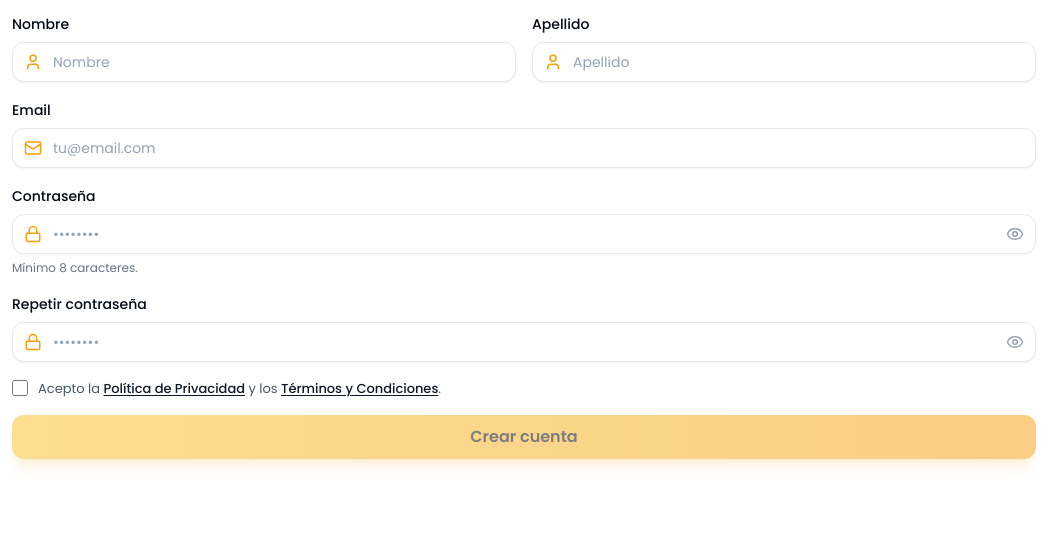
Test case: RegisterForm › el submit sigue bloqueando el envío y mostrando el error si no coinciden
In the field labelled "Nombre": (264, 62) [12,42,516,82], type "Ana"
In the field labelled "Apellido": (784, 62) [532,42,1036,82], type "Gómez"
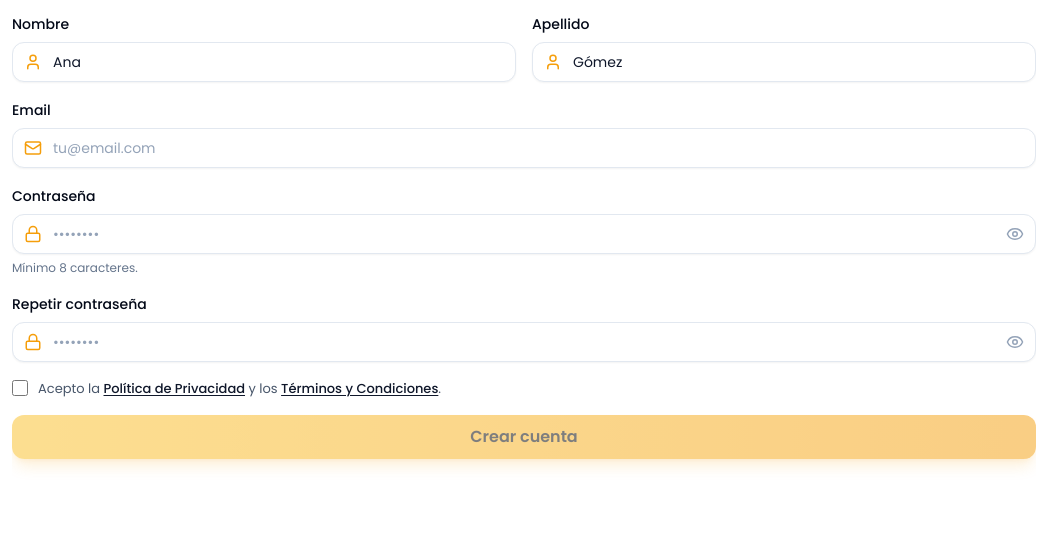
In the field labelled "Email": (524, 148) [12,128,1036,168], type "ana@test.com"
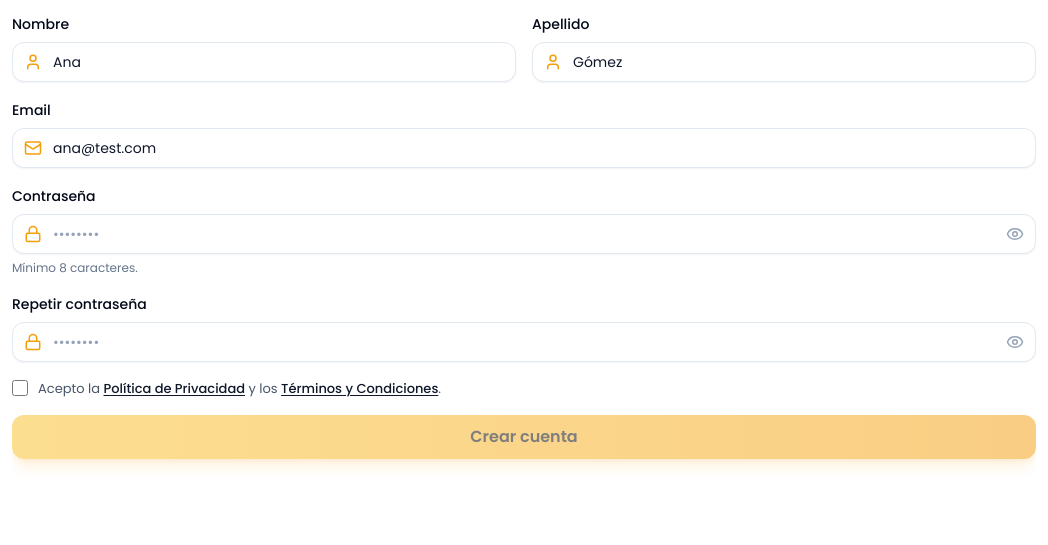
In the password field labelled "Contraseña": (524, 234) [12,214,1036,254], type "password123"
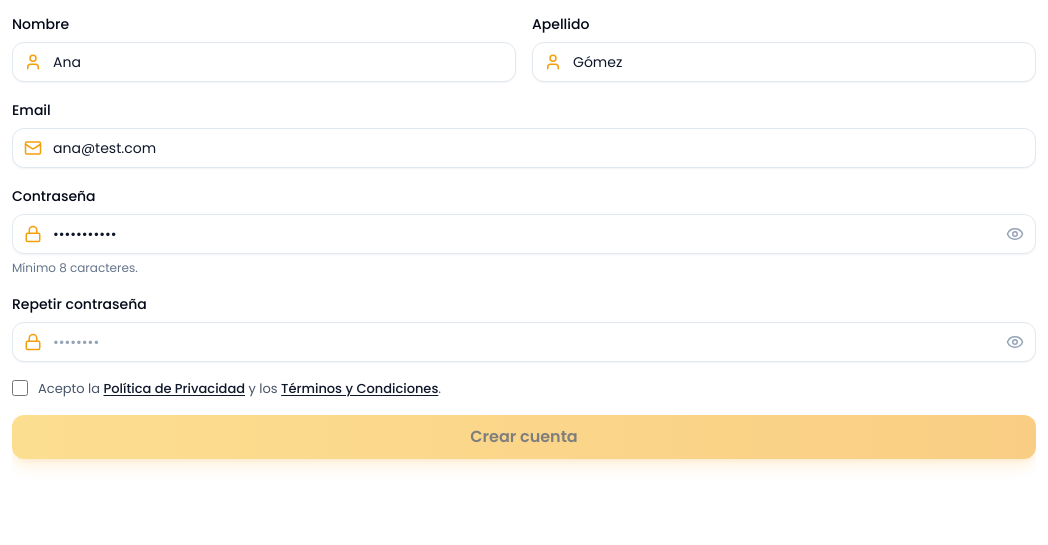
In the password field labelled "Repetir contraseña": (524, 342) [12,322,1036,362], type "otra-cosa"
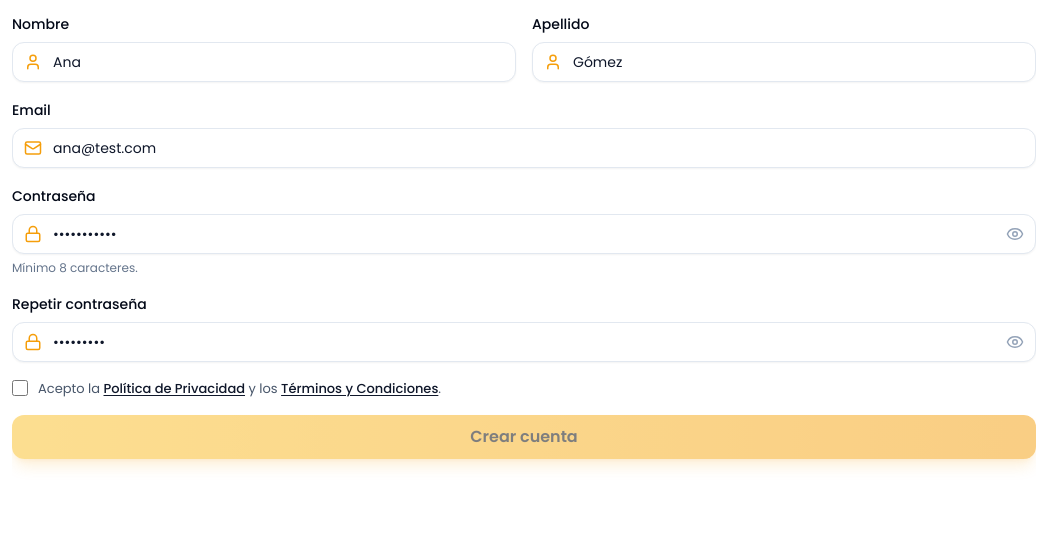
Click the checkbox: (20, 388) [12,380,28,396]
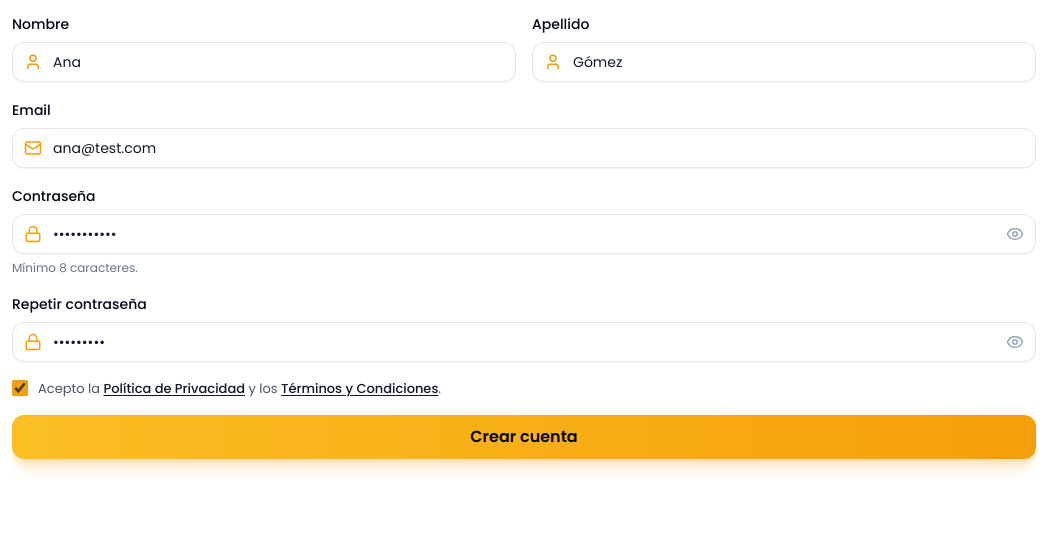
Click the button "Crear cuenta": (524, 437) [12,415,1036,459]
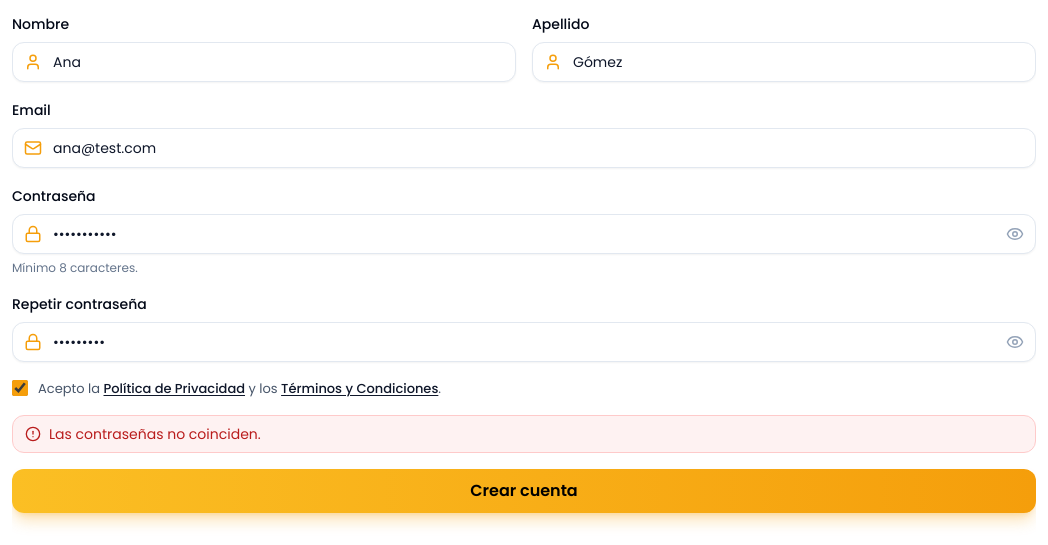
Expected: the text "Las contraseñas no coinciden." is shown, [49,424,261,444]
